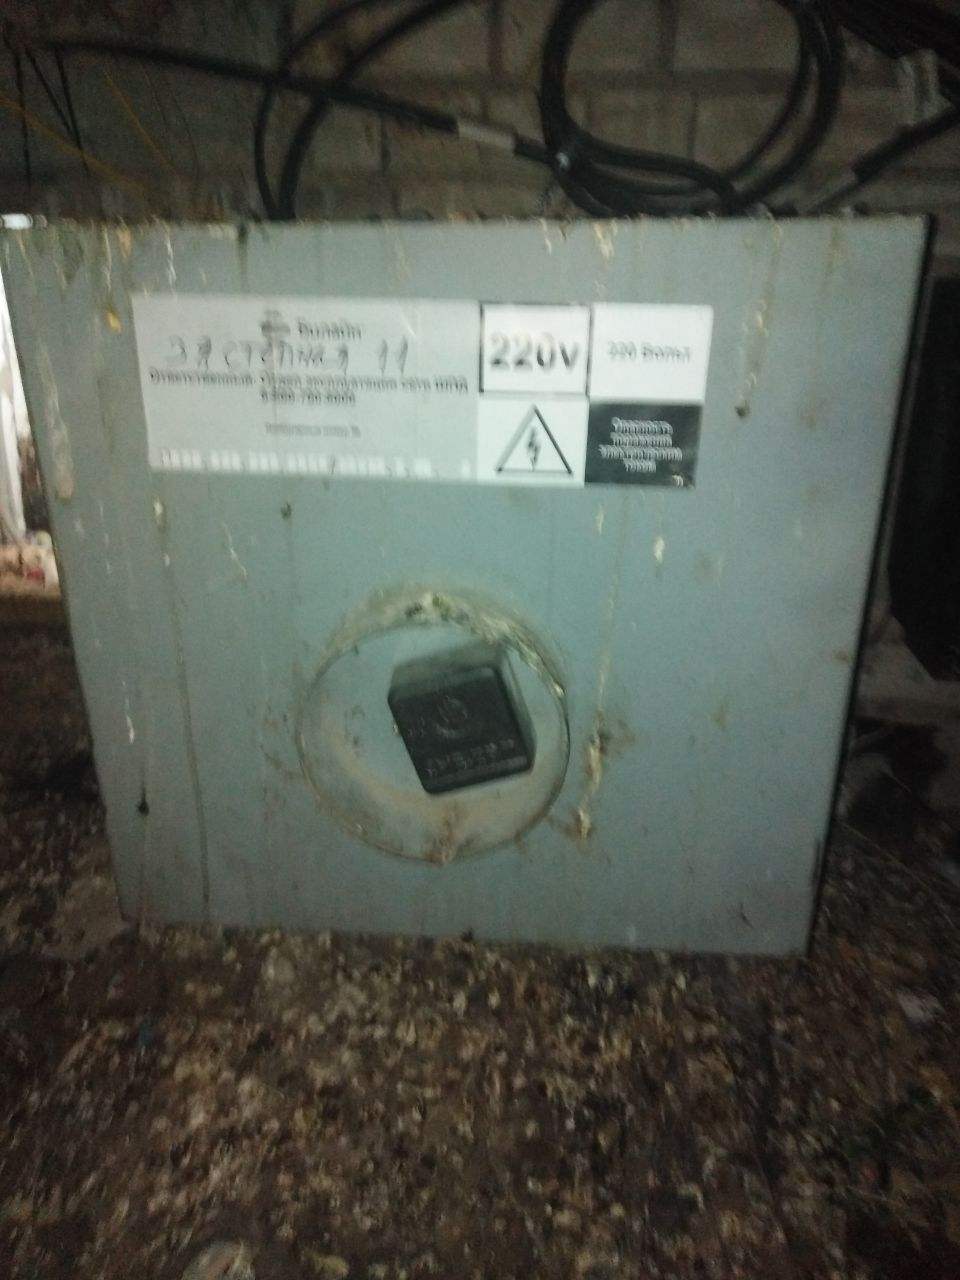shta-9: (8, 191, 935, 968)
